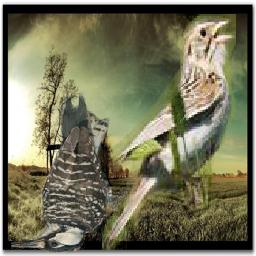Sparrow: (102, 14, 236, 250)
Woodpecker: (11, 91, 131, 254)
